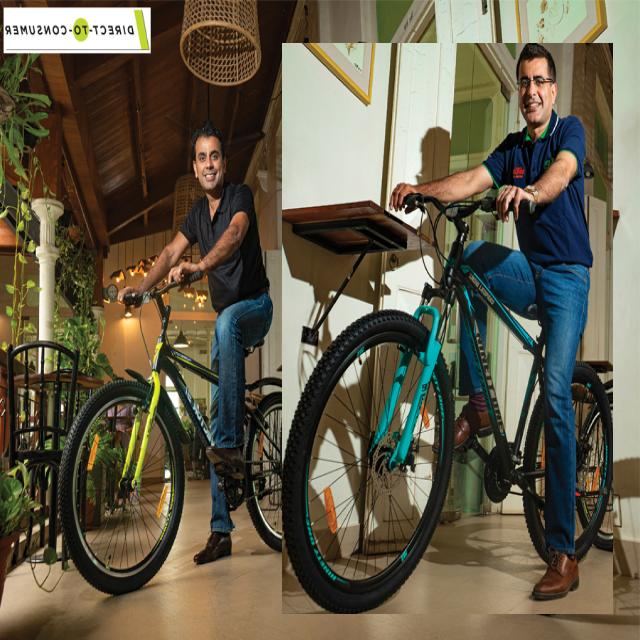bicycle: (282, 43, 612, 614), (60, 120, 299, 594)
